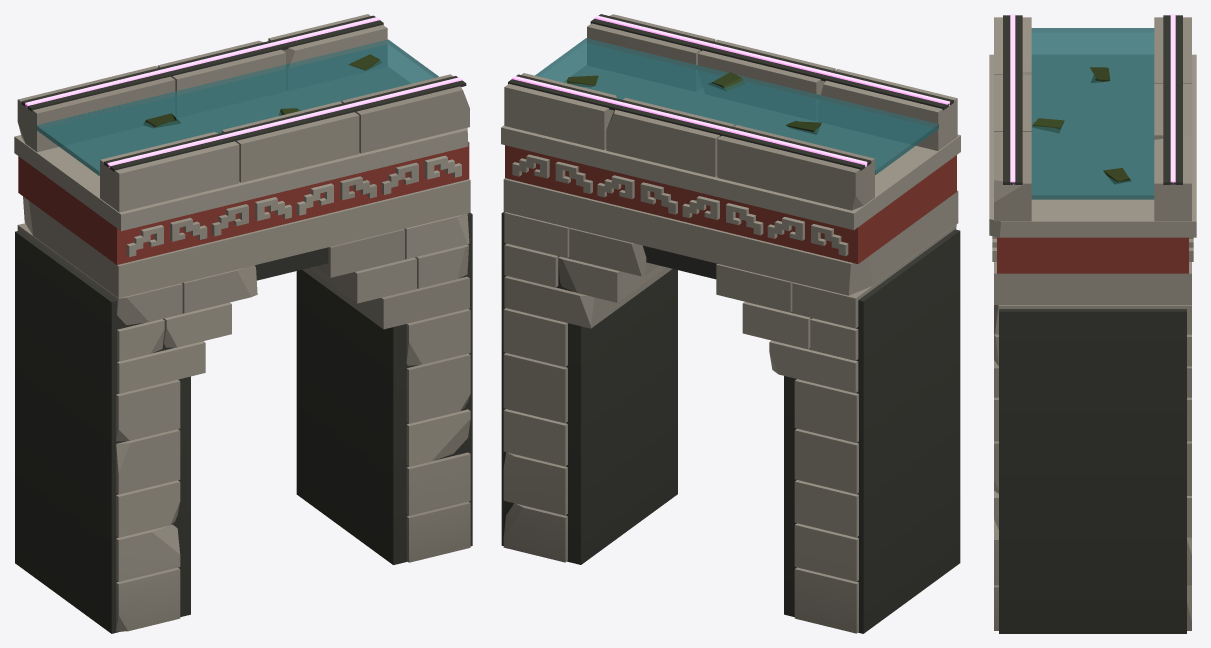
Rendered from zr_aqueduct_4m.glb.
3 renders of one model, left to right at view 1: azimuth 30°, elevation 25°; view 2: azimuth 150°, elevation 25°; view 3: azimuth 270°, elevation 25°, orthographic. The views are drawn at different scales.
Visible parts, largest first — view 1: zr_aqueduct_4m; view 2: zr_aqueduct_4m; view 3: zr_aqueduct_4m.
Boxes of the visible parts, bbox=[...] form: zr_aqueduct_4m: bbox=[14, 14, 472, 633]; zr_aqueduct_4m: bbox=[501, 14, 960, 633]; zr_aqueduct_4m: bbox=[989, 14, 1196, 633].
Size of what is drawn, in the model's own units: 4.1 by 5.03 by 2.1.
